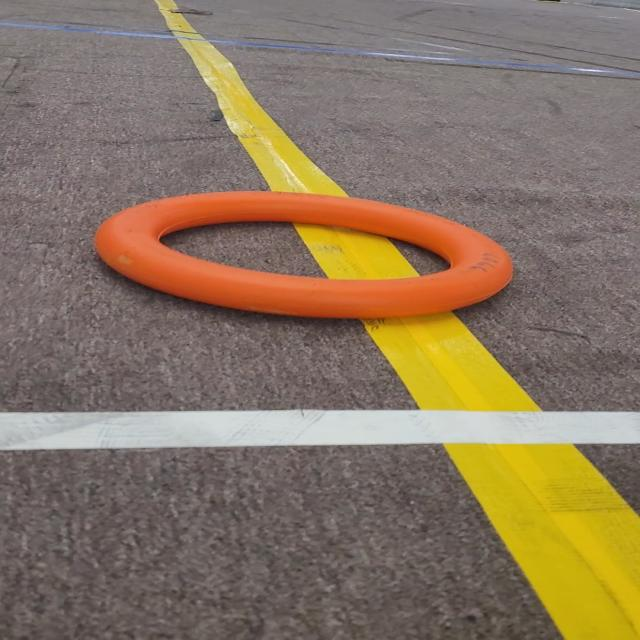note: (89, 182, 531, 344)
